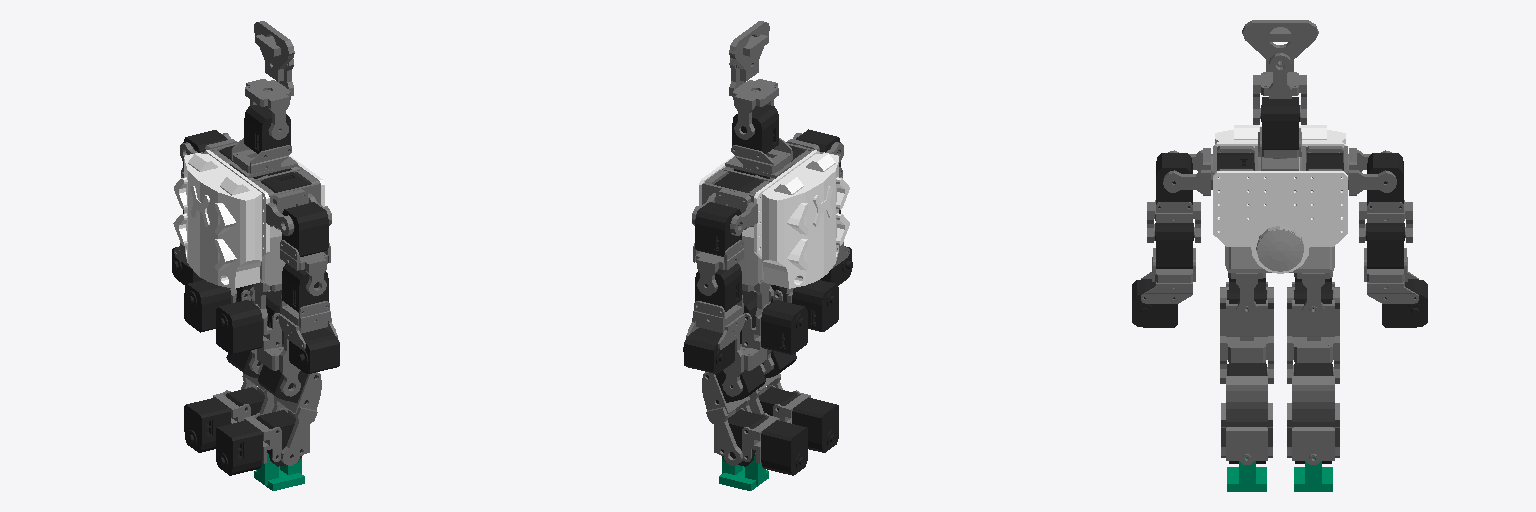
--- What the picture shows (computed from the rendered views, not written in the file) ---
Views: 3 orthographic renders of the robot side by side, from view 1: azimuth 30°, elevation 25°; view 2: azimuth 150°, elevation 25°; view 3: azimuth 270°, elevation 25°.
Model kxrl2l5a3g with 23 links and 22 joints (16 revolute, 6 fixed), rooted at torso, posed every joint at zero.
Visible links, largest first — view 1: torso, RARM_LINK2, RLEG_LINK3, HEAD_LINK1, RARM_LINK1, RLEG_LINK0, LLEG_LINK3, RLEG_LINK2, HEAD_LINK0, LLEG_LINK0, RARM_LINK0, RLEG_LINK1 (+4 smaller); view 2: torso, LARM_LINK2, LLEG_LINK3, HEAD_LINK1, LARM_LINK1, LLEG_LINK0, RLEG_LINK3, HEAD_LINK0, LLEG_LINK2, RLEG_LINK0, LARM_LINK0, LLEG_LINK1 (+4 smaller); view 3: torso, RARM_LINK2, LARM_LINK2, HEAD_LINK1, LLEG_LINK2, RLEG_LINK2, LARM_LINK1, RARM_LINK1, HEAD_LINK0, RLEG_LINK1, LLEG_LINK1, LLEG_LINK0 (+7 smaller).
Boxes of the visible links, x1,y1,x2,y2 form: torso: (173,143,324,320); RARM_LINK2: (279,263,339,373); RLEG_LINK3: (216,408,309,475); HEAD_LINK1: (245,21,294,139); RARM_LINK1: (280,202,330,295); RLEG_LINK0: (216,290,283,354); LLEG_LINK3: (184,385,264,452); RLEG_LINK2: (258,365,321,465); HEAD_LINK0: (231,105,291,174); LLEG_LINK0: (184,280,252,332); RARM_LINK0: (266,189,331,235); RLEG_LINK1: (257,290,300,396); torso: (699,143,849,317); LARM_LINK2: (683,263,744,373); LLEG_LINK3: (714,408,807,475); HEAD_LINK1: (729,21,778,139); LARM_LINK1: (693,202,743,295); LLEG_LINK0: (740,290,807,354); RLEG_LINK3: (759,385,838,452); HEAD_LINK0: (731,105,792,174); LLEG_LINK2: (702,365,765,465); RLEG_LINK0: (771,280,838,331); LARM_LINK0: (692,189,757,235); LLEG_LINK1: (722,290,766,396); torso: (1211,125,1348,319); RARM_LINK2: (1132,223,1195,327); LARM_LINK2: (1364,223,1427,327); HEAD_LINK1: (1242,20,1318,124); LLEG_LINK2: (1287,362,1339,457); RLEG_LINK2: (1221,362,1272,457); LARM_LINK1: (1359,153,1412,242); RARM_LINK1: (1147,153,1200,242); HEAD_LINK0: (1258,97,1301,157); RLEG_LINK1: (1220,287,1273,383); LLEG_LINK1: (1287,287,1339,383); LLEG_LINK0: (1292,278,1334,336).
Size in the robot's own frame: 0.089 by 0.2095 by 0.364 metres.
17 mesh visuals loaded from 17 distinct referenced files (17 Collada DAE).

robot.urdf — kxrl2l5a3g:
<?xml version="1.0"?>
<robot name="kxrl2l5a3g"
       xmlns:xi="http://www.w3.org/2001/XInclude">
  <link name="torso">
    <visual>
      <origin xyz="-8e-06 0 0.191982" rpy="0 -0 0"/>
      <geometry>
        <mesh filename="../meshes/torso_mesh.dae" scale="1 1 1" />
      </geometry>
    </visual>
    <collision>
      <origin xyz="-0.010000 0.00000 0.020000" rpy="0.00000000 -0.00000000 0.00000000"/>
      <geometry>
        <box size="0.07000 0.08 0.08" />
      </geometry>
    </collision>
    <inertial>
      <!-- from rcb4eus -->
      <!-- <mass value="0.583234" /> -->
      <!-- real robot w/o battery: 0.583234 - 0.296 = 0.287234; only compensate the real weight by torso adjustment -->
      <mass value="0.287234" />
      <origin xyz="0 0 0" rpy="0 -0 0"/>
      <inertia ixx="0.001179" ixy="-8.41182e-06" ixz="-1.70062e-06" iyy="0.001167" iyz="1.49116e-06" izz="0.001999"/>
    </inertial>
  </link>
  <link name="HEAD_LINK0">
    <visual>
      <origin xyz="-0.00725 0 0.061" rpy="0 -0 0"/>
      <geometry>
        <mesh filename="../meshes/HEAD_LINK0_mesh.dae" scale="1 1 1" />
      </geometry>
    </visual>
    <inertial>
      <mass value="0.03752" />
      <origin xyz="0.008278 -1.86739e-06 0.020216" rpy="0 -0 0"/>
      <inertia ixx="3.88837e-05" ixy="-3.94e-12" ixz="6.70242e-09" iyy="4.27546e-05" iyz="-6.02408e-09" izz="2.51931e-05"/>
    </inertial>
  </link>
  <link name="HEAD_LINK1">
    <visual>
      <origin xyz="0.0105 0 0.033" rpy="0 -0 0"/>
      <geometry>
        <mesh filename="../meshes/HEAD_LINK1_mesh.dae" scale="1 1 1" />
      </geometry>
    </visual>
    <collision>
      <origin xyz="0.00000 0.0000 -0.0080" rpy="0.00000000 -0.00000000 0.00000000"/>
      <geometry>
        <box size="0.025 0.025 0.03" />
      </geometry>
    </collision>
    <inertial>
      <mass value="0.024597" />
      <!-- <origin xyz="0.004067 2.59182e-19 0.008603" rpy="0 -0 0"/> -->
      <origin xyz="0.004067 4.0547e-19 0.008603" rpy="0 -0 0"/>
      <inertia ixx="9.7242e-05" ixy="-2.28993e-09" ixz="1.36484e-07" iyy="8.87817e-05" iyz="-1.71513e-08" izz="1.3887e-05"/>
    </inertial>
  </link>
  <link name="LARM_LINK0">
    <visual>
      <origin xyz="-0.00725 0.0485 0.0435" rpy="0 -0 0"/>
      <geometry>
        <mesh filename="../meshes/LARM_LINK0_mesh.dae" scale="1 1 1" />
      </geometry>
    </visual>
    <inertial>
      <mass value="0.01195" />
      <origin xyz="2.60209e-18 0 0.010386" rpy="0 -0 0"/>
      <inertia ixx="2.28576e-05" ixy="-9.80842e-10" ixz="6.34046e-10" iyy="1.18146e-05" iyz="1.5468e-08" izz="1.61687e-05"/>
    </inertial>
  </link>
  <link name="LARM_LINK1">
    <visual>
      <origin xyz="0 0.026 0" rpy="0 -0 0"/>
      <geometry>
        <mesh filename="../meshes/LARM_LINK1_mesh.dae" scale="1 1 1" />
      </geometry>
    </visual>
    <collision>
      <origin xyz="0.00000 0.0000 -0.0080" rpy="0.00000000 -0.00000000 0.00000000"/>
      <geometry>
        <box size="0.025 0.025 0.03" />
      </geometry>
    </collision>
    <collision>
      <origin xyz="0.0 0.0000 -0.030" rpy="0.00000000 -0.00000000 0.00000000"/>
      <geometry>
        <box size="0.028 0.028 0.006" />
      </geometry>
    </collision>
    <inertial>
      <mass value="0.041025" />
      <origin xyz="0 0 -0.01644" rpy="0 -0 0"/>
      <inertia ixx="5.49194e-05" ixy="-6.71102e-10" ixz="8.95645e-09" iyy="2.53332e-05" iyz="6.90862e-09" izz="5.98969e-05"/>
    </inertial>
  </link>
  <link name="LARM_LINK2">
    <visual>
      <origin xyz="0 0 -0.047" rpy="0 -0 0"/>
      <geometry>
        <mesh filename="../meshes/LARM_LINK2_mesh.dae" scale="1 1 1" />
      </geometry>
    </visual>
    <collision>
      <origin xyz="0.00000 0.0000 -0.008" rpy="0.00000000 -0.00000000 0.00000000"/>
      <geometry>
        <box size="0.025 0.025 0.03" />
      </geometry>
    </collision>
    <collision>
      <origin xyz="0.00000 0.0130 -0.055" rpy="0.00000000 -0.00000000 0.00000000"/>
      <geometry>
        <box size="0.025 0.03 0.025" />
      </geometry>
    </collision>
    <collision>
      <origin xyz="0.0 0.0000 -0.033" rpy="0.00000000 -0.00000000 0.00000000"/>
      <geometry>
        <box size="0.028 0.028 0.010" />
      </geometry>
    </collision>
    <inertial>
      <mass value="0.071724" />
      <origin xyz="0 0 -0.012787" rpy="0 -0 0"/>
      <inertia ixx="9.38809e-05" ixy="-3.94e-12" ixz="1.53141e-08" iyy="5.47619e-05" iyz="-1.12819e-08" izz="9.84962e-05"/>
    </inertial>
  </link>
  <!-- <link name="LARM_LINK3"> -->
  <!--   <visual> -->
  <!--     <origin xyz="0 0.021 -0.0555" rpy="0 -0 0"/> -->
  <!--     <geometry> -->
  <!--       <mesh filename="../meshes/LARM_LINK3_mesh.dae" scale="1 1 1" /> -->
  <!--     </geometry> -->
  <!--   </visual> -->
  <!--   <collision> -->
  <!--     <!-\- <origin xyz="0.00000 0.0225 -0.022" rpy="${-1.0471975512 - 0.05} -0.00000000 0.00000000"/> -\-> -->
  <!--     <origin xyz="0.00000 0.0225 -0.022" rpy="-1.0971975512 -0.00000000 0.00000000"/> -->
  <!--     <geometry> -->
  <!--       <box size="0.04 0.03 0.006" /> -->
  <!--     </geometry> -->
  <!--   </collision> -->
  <!--   <inertial> -->
  <!--     <mass value="0.013908" /> -->
  <!--     <origin xyz="-3.46945e-18 0.035082 -0.036273" rpy="0 -0 0"/> -->
  <!--     <inertia ixx="5.39534e-05" ixy="-2.54028e-09" ixz="-2.35822e-09" iyy="2.3568e-05" iyz="-1.52851e-07" izz="4.68022e-05"/> -->
  <!--   </inertial> -->
  <!-- </link> -->
  <link name="LLEG_LINK0">
    <visual>
      <origin xyz="0 0.0235 -0.052" rpy="0 -0 0"/>
      <geometry>
        <mesh filename="../meshes/LLEG_LINK0_mesh.dae" scale="1 1 1" />
      </geometry>
    </visual>
    <collision>
      <origin xyz="-0.035 0.0000 -0.0080" rpy="0.00000000 -0.00000000 0.00000000"/>
      <geometry>
        <box size="0.025 0.025 0.03" />
      </geometry>
    </collision>
    <collision>
      <origin xyz="0.00000 0.0000 -0.0080" rpy="0.00000000 -0.00000000 0.00000000"/>
      <geometry>
        <box size="0.025 0.025 0.03" />
      </geometry>
    </collision>
    <inertial>
      <mass value="0.061776" />
      <origin xyz="-0.015804 -3.46945e-18 -0.00811" rpy="0 -0 0"/>
      <inertia ixx="4.81066e-05" ixy="1.50384e-08" ixz="-2.07075e-08" iyy="5.46135e-05" iyz="-1.15288e-07" izz="4.88736e-05"/>
    </inertial>
  </link>
  <link name="LLEG_LINK1">
    <visual>
      <origin xyz="0 0 0" rpy="0 -0 0"/>
      <geometry>
        <mesh filename="../meshes/LLEG_LINK1_mesh.dae" scale="1 1 1" />
      </geometry>
    </visual>
    <collision>
      <origin xyz="0.0 0.0000 -0.038" rpy="0.00000000 -0.00000000 0.00000000"/>
      <geometry>
        <box size="0.028 0.028 0.012" />
      </geometry>
    </collision>
    <inertial>
      <mass value="0.025166" />
      <origin xyz="2.87307e-19 -3.46945e-18 -0.032713" rpy="0 -0 0"/>
      <inertia ixx="6.74466e-05" ixy="-2.27142e-09" ixz="1.80148e-09" iyy="6.14497e-05" iyz="3.35902e-08" izz="1.35243e-05"/>
    </inertial>
  </link>
  <link name="LLEG_LINK2">
    <visual>
      <origin xyz="0 0 -0.058" rpy="0 -0 0"/>
      <geometry>
        <mesh filename="../meshes/LLEG_LINK2_mesh.dae" scale="1 1 1" />
      </geometry>
    </visual>
    <collision>
      <!-- <origin xyz="0.00000 0.00 -0.00" rpy="0.00000000 ${0.52359877559 - 0.07} 0.00000000"/> -->
      <!-- <origin xyz="0.00700 0.00 -0.003" rpy="0.00000000 0.45359877559 0.00000000"/> -->
      <origin xyz="0.01000 0.00 -0.0045" rpy="0.00000000 0.45359877559 0.00000000"/>
      <geometry>
        <box size="0.03 0.025 0.025" />
      </geometry>
    </collision>
    <inertial>
      <!-- from rcb4eus -->
      <mass value="0.055049" />
      <!-- real robot 3304R2: 0.055049 + 0.0073 = 0.062349 -->
      <!-- <mass value="0.062349" /> -->
      <origin xyz="0.010892 0 -0.013685" rpy="0 -0 0"/>
      <inertia ixx="0.00013" ixy="5.70585e-08" ixz="1.76606e-08" iyy="0.000122" iyz="-6.55478e-07" izz="3.84933e-05"/>
    </inertial>
  </link>
  <link name="LLEG_LINK3">
    <visual>
      <origin xyz="0 0 -0.057976" rpy="0 -0 0"/>
      <geometry>
        <mesh filename="../meshes/LLEG_LINK3_mesh.dae" scale="1 1 1" />
      </geometry>
    </visual>
    <collision>
      <origin xyz="-0.035 0.0000 0.0080" rpy="0.00000000 -0.00000000 0.00000000"/>
      <geometry>
        <box size="0.025 0.025 0.03" />
      </geometry>
    </collision>
    <collision>
      <origin xyz="0.00000 0.0000 0.0080" rpy="0.00000000 -0.00000000 0.00000000"/>
      <geometry>
        <box size="0.025 0.025 0.03" />
      </geometry>
    </collision>
    <inertial>
      <!-- from rcb4eus -->
      <mass value="0.061776" />
      <!-- real robot 3304R2 x 2: 0.061776 + 0.0073 x 2 = 0.076376 -->
      <!-- <mass value="0.076376" /> -->
      <origin xyz="-0.015804 -3.46945e-18 -0.00811" rpy="0 -0 0"/>
      <inertia ixx="0.000134" ixy="1.50384e-08" ixz="-2.07075e-08" iyy="0.00014" iyz="-1.15288e-07" izz="4.88736e-05"/>
    </inertial>
  </link>
  <link name="LLEG_LINK4">
    <!-- <visual> -->
    <!--   <origin xyz="0 0 0" rpy="0 -0 0"/> -->
    <!--   <geometry> -->
    <!--     <mesh filename="../meshes/LLEG_LINK4_mesh.dae" scale="1 1 1" /> -->
    <!--   </geometry> -->
    <!-- </visual> -->
    <visual>
      <origin xyz="0.01 0.0000 -0.013" rpy="0.00000000 -0.00000000 0.00000000"/>
      <geometry>
        <box size="0.012 0.012 0.026" />
      </geometry>
    </visual>
    <visual>
      <origin xyz="-0.01 0.0000 -0.013" rpy="0.00000000 -0.00000000 0.00000000"/>
      <geometry>
        <box size="0.012 0.012 0.026" />
      </geometry>
    </visual>
    <visual>
      <origin xyz="0.0 0.0000 -0.025" rpy="0.00000000 -0.00000000 0.00000000"/>
      <geometry>
        <box size="0.028 0.028 0.006" />
      </geometry>
    </visual>
    <collision>
      <origin xyz="0.0 0.0000 -0.025" rpy="0.00000000 -0.00000000 0.00000000"/>
      <geometry>
        <box size="0.028 0.028 0.006" />
      </geometry>
    </collision>
    <!-- method 1: approximation by 1 box -->
    <!-- <collision> -->
    <!--   <!-\- <origin xyz="0.00000 0.0100 -0.029" rpy="0.00000000 -0.00000000 0.00000000"/> -\-> -->
    <!--   <origin xyz="0.00000 0.0100 -0.029" rpy="0.00000000 -0.00000000 0.00000000"/> -->
    <!--   <geometry> -->
    <!--     <box size="0.1 0.06 0.004" /> -->
    <!--     <!-\- <box size="0.1 0.04 0.004" /> -\-> -->
    <!--   </geometry> -->
    <!-- </collision> -->
    <!-- method 2: approximation by 2 boxes -->
    <!-- <collision> -->
    <!--   <!-\- <origin xyz="0.00000 0.000 -0.029" rpy="0.00000000 -0.00000000 0.00000000"/> -\-> -->
    <!--   <!-\- add small offset to avoid 2 feet get collisin -\-> -->
    <!--   <origin xyz="0.00000 0.0040 -0.029" rpy="0.00000000 -0.00000000 0.00000000"/> -->
    <!--   <geometry> -->
    <!--     <box size="0.1 0.04 0.004" /> -->
    <!--   </geometry> -->
    <!-- </collision> -->
    <!-- <collision> -->
    <!--   <!-\- <origin xyz="0.00000 0.0300 -0.029" rpy="0.00000000 -0.00000000 0.00000000"/> -\-> -->
    <!--   <!-\- add small offset to avoid 2 feet get collisin -\-> -->
    <!--   <origin xyz="0.00000 0.03400 -0.029" rpy="0.00000000 -0.00000000 0.00000000"/> -->
    <!--   <geometry> -->
    <!--     <box size="0.08 0.02 0.004" /> -->
    <!--   </geometry> -->
    <!-- </collision> -->
    <!-- method 3: approximation by overlay of 2 spheres and 1 box -->
    <!-- <collision> -->
    <!--   <origin xyz="0.02000 0.0100 -0.029" rpy="0.00000000 -0.00000000 0.00000000"/> -->
    <!--   <geometry> -->
    <!--     <cylinder length="0.004" radius="0.03" /> -->
    <!--   </geometry> -->
    <!-- </collision> -->
    <!-- <collision> -->
    <!--   <origin xyz="-0.02000 0.0100 -0.029" rpy="0.00000000 -0.00000000 0.00000000"/> -->
    <!--   <geometry> -->
    <!--     <cylinder length="0.004" radius="0.03" /> -->
    <!--   </geometry> -->
    <!-- </collision> -->
    <!-- <collision> -->
    <!--   <origin xyz="0.00000 0.0100 -0.029" rpy="0.00000000 -0.00000000 0.00000000"/> -->
    <!--   <geometry> -->
    <!--     <box size="0.06 0.06 0.004" /> -->
    <!--   </geometry> -->
    <!-- </collision> -->
    <inertial>
      <mass value="0.034088" />
      <origin xyz="-7.61549e-06 0.005841 -0.024808" rpy="0 -0 0"/>
      <inertia ixx="0.000284" ixy="6.51398e-09" ixz="1.25882e-08" iyy="0.000186" iyz="-2.42528e-07" izz="0.000103"/>
    </inertial>
  </link>
  <link name="RARM_LINK0">
    <visual>
      <origin xyz="-0.00725 -0.049 0.0435" rpy="0 -0 0"/>
      <geometry>
        <mesh filename="../meshes/RARM_LINK0_mesh.dae" scale="1 1 1" />
      </geometry>
    </visual>
    <inertial>
      <mass value="0.01195" />
      <origin xyz="2.60209e-18 0 0.010386" rpy="0 -0 0"/>
      <inertia ixx="2.30389e-05" ixy="-9.80842e-10" ixz="6.34046e-10" iyy="1.18146e-05" iyz="1.5468e-08" izz="1.63501e-05"/>
    </inertial>
  </link>
  <link name="RARM_LINK1">
    <visual>
      <origin xyz="0 -0.026 0" rpy="0 -0 0"/>
      <geometry>
        <mesh filename="../meshes/RARM_LINK1_mesh.dae" scale="1 1 1" />
      </geometry>
    </visual>
    <collision>
      <origin xyz="0.00000 0.0000 -0.00800" rpy="0.00000000 -0.00000000 0.00000000"/>
      <geometry>
        <box size="0.025 0.025 0.03" />
      </geometry>
    </collision>
    <collision>
      <origin xyz="0.0 0.0000 -0.030" rpy="0.00000000 -0.00000000 0.00000000"/>
      <geometry>
        <box size="0.028 0.028 0.006" />
      </geometry>
    </collision>
    <inertial>
      <mass value="0.041025" />
      <origin xyz="0 0 -0.01644" rpy="0 -0 0"/>
      <inertia ixx="5.53679e-05" ixy="-6.71102e-10" ixz="8.95645e-09" iyy="2.53332e-05" iyz="6.90862e-09" izz="6.03453e-05"/>
    </inertial>
  </link>
  <link name="RARM_LINK2">
    <visual>
      <origin xyz="0 0 -0.047" rpy="0 -0 0"/>
      <geometry>
        <mesh filename="../meshes/RARM_LINK2_mesh.dae" scale="1 1 1" />
      </geometry>
    </visual>
    <collision>
      <origin xyz="0.00000 0.0000 -0.008" rpy="0.00000000 -0.00000000 0.00000000"/>
      <geometry>
        <box size="0.025 0.025 0.03" />
      </geometry>
    </collision>
    <collision>
      <origin xyz="0.00000 -0.0130 -0.055" rpy="0.00000000 -0.00000000 0.00000000"/>
      <geometry>
        <box size="0.025 0.03 0.025" />
      </geometry>
    </collision>
    <collision>
      <origin xyz="0.0 0.0000 -0.033" rpy="0.00000000 -0.00000000 0.00000000"/>
      <geometry>
        <box size="0.028 0.028 0.010" />
      </geometry>
    </collision>
    <inertial>
      <mass value="0.071724" />
      <origin xyz="0 0 -0.012787" rpy="0 -0 0"/>
      <inertia ixx="9.45007e-05" ixy="-3.94e-12" ixz="1.53141e-08" iyy="5.47619e-05" iyz="-1.12819e-08" izz="9.91161e-05"/>
    </inertial>
  </link>
  <!-- <link name="RARM_LINK3"> -->
  <!--   <visual> -->
  <!--     <origin xyz="0 -0.021 -0.0555" rpy="0 -0 0"/> -->
  <!--     <geometry> -->
  <!--       <mesh filename="../meshes/RARM_LINK3_mesh.dae" scale="1 1 1" /> -->
  <!--     </geometry> -->
  <!--   </visual> -->
  <!--   <collision> -->
  <!--     <!-\- <origin xyz="0.00000 -0.0225 -0.022" rpy="${1.0471975512 + 0.05} -0.00000000 0.00000000"/> -\-> -->
  <!--     <origin xyz="0.00000 -0.0225 -0.022" rpy="1.0971975512 -0.00000000 0.00000000"/> -->
  <!--     <geometry> -->
  <!--       <box size="0.04 0.03 0.006" /> -->
  <!--     </geometry> -->
  <!--   </collision> -->
  <!--   <inertial> -->
  <!--     <mass value="0.013908" /> -->
  <!--     <origin xyz="1.73472e-18 -0.035082 -0.036273" rpy="0 -0 0"/> -->
  <!--     <inertia ixx="5.42657e-05" ixy="-2.54028e-09" ixz="-2.35822e-09" iyy="2.3568e-05" iyz="-1.52851e-07" izz="4.71146e-05"/> -->
  <!--   </inertial> -->
  <!-- </link> -->
  <link name="RLEG_LINK0">
    <visual>
      <origin xyz="0 -0.0235 -0.052" rpy="0 -0 0"/>
      <geometry>
        <mesh filename="../meshes/RLEG_LINK0_mesh.dae" scale="1 1 1" />
      </geometry>
    </visual>
    <collision>
      <origin xyz="-0.035 0.0000 -0.0080" rpy="0.00000000 -0.00000000 0.00000000"/>
      <geometry>
        <box size="0.025 0.025 0.03" />
      </geometry>
    </collision>
    <collision>
      <origin xyz="0.00000 0.0000 -0.0080" rpy="0.00000000 -0.00000000 0.00000000"/>
      <geometry>
        <box size="0.025 0.025 0.03" />
      </geometry>
    </collision>
    <inertial>
      <mass value="0.061776" />
      <origin xyz="-0.015804 -3.46945e-18 -0.00811" rpy="0 -0 0"/>
      <inertia ixx="4.81066e-05" ixy="1.50384e-08" ixz="-2.07075e-08" iyy="5.46135e-05" iyz="-1.15288e-07" izz="4.88736e-05"/>
    </inertial>
  </link>
  <link name="RLEG_LINK1">
    <visual>
      <origin xyz="0 0 0" rpy="0 -0 0"/>
      <geometry>
        <mesh filename="../meshes/RLEG_LINK1_mesh.dae" scale="1 1 1" />
      </geometry>
    </visual>
    <collision>
      <origin xyz="0.0 0.0000 -0.038" rpy="0.00000000 -0.00000000 0.00000000"/>
      <geometry>
        <box size="0.028 0.028 0.012" />
      </geometry>
    </collision>
    <inertial>
      <mass value="0.025166" />
      <origin xyz="2.87307e-19 -3.46945e-18 -0.032713" rpy="0 -0 0"/>
      <inertia ixx="6.74466e-05" ixy="-2.27142e-09" ixz="1.80148e-09" iyy="6.14497e-05" iyz="3.35902e-08" izz="1.35243e-05"/>
    </inertial>
  </link>
  <link name="RLEG_LINK2">
    <visual>
      <origin xyz="0 0 -0.058" rpy="0 -0 0"/>
      <geometry>
        <mesh filename="../meshes/RLEG_LINK2_mesh.dae" scale="1 1 1" />
      </geometry>
    </visual>
    <collision>
      <!-- <origin xyz="0.00000 0.00 -0.00" rpy="0.00000000 ${0.52359877559 - 0.07} 0.00000000"/> -->
      <!-- <origin xyz="0.00700 0.00 -0.003" rpy="0.00000000 0.45359877559 0.00000000"/> -->
      <origin xyz="0.01000 0.00 -0.0045" rpy="0.00000000 0.45359877559 0.00000000"/>
      <geometry>
        <box size="0.03 0.025 0.025" />
      </geometry>
    </collision>
    <inertial>
      <!-- from rcb4eus -->
      <mass value="0.055049" />
      <!-- real robot 3304R2: 0.055049 + 0.0073 = 0.062349 -->
      <!-- <mass value="0.062349" /> -->
      <origin xyz="0.010892 0 -0.013685" rpy="0 -0 0"/>
      <inertia ixx="0.00013" ixy="5.70585e-08" ixz="1.76606e-08" iyy="0.000122" iyz="-6.55478e-07" izz="3.84933e-05"/>
    </inertial>
  </link>
  <link name="RLEG_LINK3">
    <visual>
      <origin xyz="0 0 -0.057976" rpy="0 -0 0"/>
      <geometry>
        <mesh filename="../meshes/RLEG_LINK3_mesh.dae" scale="1 1 1" />
      </geometry>
    </visual>
    <collision>
      <origin xyz="-0.035 0.0000 0.0080" rpy="0.00000000 -0.00000000 0.00000000"/>
      <geometry>
        <box size="0.025 0.025 0.03" />
      </geometry>
    </collision>
    <collision>
      <origin xyz="0.00000 0.0000 0.0080" rpy="0.00000000 -0.00000000 0.00000000"/>
      <geometry>
        <box size="0.025 0.025 0.03" />
      </geometry>
    </collision>
    <inertial>
      <!-- from rcb4eus -->
      <mass value="0.061776" />
      <!-- real robot 3304R2 x 2: 0.061776 + 0.0073 x 2 = 0.076376 -->
      <!-- <mass value="0.076376" /> -->
      <origin xyz="-0.015804 -3.46945e-18 -0.00811" rpy="0 -0 0"/>
      <inertia ixx="0.000134" ixy="1.50384e-08" ixz="-2.07075e-08" iyy="0.00014" iyz="-1.15288e-07" izz="4.88736e-05"/>
    </inertial>
  </link>
  <link name="RLEG_LINK4">
    <!-- <visual> -->
    <!--   <origin xyz="0 0 0" rpy="0 -0 0"/> -->
    <!--   <geometry> -->
    <!--     <mesh filename="../meshes/RLEG_LINK4_mesh.dae" scale="1 1 1" /> -->
    <!--   </geometry> -->
    <!-- </visual> -->
    <visual>
      <origin xyz="0.01 0.0000 -0.013" rpy="0.00000000 -0.00000000 0.00000000"/>
      <geometry>
        <box size="0.012 0.012 0.026" />
      </geometry>
    </visual>
    <visual>
      <origin xyz="-0.01 0.0000 -0.013" rpy="0.00000000 -0.00000000 0.00000000"/>
      <geometry>
        <box size="0.012 0.012 0.026" />
      </geometry>
    </visual>
    <visual>
      <origin xyz="0.0 0.0000 -0.025" rpy="0.00000000 -0.00000000 0.00000000"/>
      <geometry>
        <box size="0.028 0.028 0.006" />
      </geometry>
    </visual>
    <collision>
      <origin xyz="0.0 0.0000 -0.025" rpy="0.00000000 -0.00000000 0.00000000"/>
      <geometry>
        <box size="0.028 0.028 0.006" />
      </geometry>
    </collision>
    <!-- method 1: approximation by 1 box -->
    <!-- <collision> -->
    <!--   <!-\- <origin xyz="0.00000 -0.0100 -0.029" rpy="0.00000000 -0.00000000 0.00000000"/> -\-> -->
    <!--   <origin xyz="0.00000 -0.0100 -0.029" rpy="0.00000000 -0.00000000 0.00000000"/> -->
    <!--   <geometry> -->
    <!--     <box size="0.1 0.06 0.004" /> -->
    <!--     <!-\- <box size="0.1 0.04 0.004" /> -\-> -->
    <!--   </geometry> -->
    <!-- </collision> -->
    <!-- method 2: approximation by 2 boxes -->
    <!-- <collision> -->
    <!--   <!-\- <origin xyz="0.00000 -0.000 -0.029" rpy="0.00000000 -0.00000000 0.00000000"/> -\-> -->
    <!--   <!-\- add small offset to avoid 2 feet get collisin -\-> -->
    <!--   <origin xyz="0.00000 -0.0040 -0.029" rpy="0.00000000 -0.00000000 0.00000000"/> -->
    <!--   <geometry> -->
    <!--     <box size="0.1 0.04 0.004" /> -->
    <!--   </geometry> -->
    <!-- </collision> -->
    <!-- <collision> -->
    <!--   <!-\- <origin xyz="0.00000 -0.0300 -0.029" rpy="0.00000000 -0.00000000 0.00000000"/> -\-> -->
    <!--   <!-\- add small offset to avoid 2 feet get collisin -\-> -->
    <!--   <origin xyz="0.00000 -0.03400 -0.029" rpy="0.00000000 -0.00000000 0.00000000"/> -->
    <!--   <geometry> -->
    <!--     <box size="0.08 0.02 0.004" /> -->
    <!--   </geometry> -->
    <!-- </collision> -->
    <!-- method 3: approximation by overlay of 2 spheres and 1 box -->
    <!-- <collision> -->
    <!--   <origin xyz="0.02000 -0.0100 -0.029" rpy="0.00000000 -0.00000000 0.00000000"/> -->
    <!--   <geometry> -->
    <!--     <cylinder length="0.004" radius="0.03" /> -->
    <!--   </geometry> -->
    <!-- </collision> -->
    <!-- <collision> -->
    <!--   <origin xyz="-0.02000 -0.0100 -0.029" rpy="0.00000000 -0.00000000 0.00000000"/> -->
    <!--   <geometry> -->
    <!--     <cylinder length="0.004" radius="0.03" /> -->
    <!--   </geometry> -->
    <!-- </collision> -->
    <!-- <collision> -->
    <!--   <origin xyz="0.00000 -0.0100 -0.029" rpy="0.00000000 -0.00000000 0.00000000"/> -->
    <!--   <geometry> -->
    <!--     <box size="0.06 0.06 0.004" /> -->
    <!--   </geometry> -->
    <!-- </collision> -->
    <inertial>
      <mass value="0.034088" />
      <origin xyz="7.61549e-06 -0.005841 -0.024808" rpy="0 -0 0"/>
      <inertia ixx="0.000284" ixy="6.51398e-09" ixz="1.25882e-08" iyy="0.000186" iyz="-2.42528e-07" izz="0.000103"/>
    </inertial>
  </link>
  <joint name="HEAD_JOINT0" type="fixed">
    <parent link="torso"/>
    <child  link="HEAD_LINK0"/>
    <origin xyz="-0.00725 0 0.061" rpy="0 -0 0 "/>
    <axis   xyz="0 0 1"/>
    <limit lower="-3.14159" upper="3.14159" effort="100" velocity="0.5" />
    <dynamics damping="0.2" friction="0" />
  </joint>
  <joint name="HEAD_JOINT1" type="fixed">
    <parent link="HEAD_LINK0"/>
    <child  link="HEAD_LINK1"/>
    <origin xyz="0.0105 0 0.033" rpy="0 -0 0 "/>
    <axis   xyz="0 1 0"/>
    <limit lower="-3.14159" upper="3.14159" effort="100" velocity="0.5" />
    <dynamics damping="0.2" friction="0" />
  </joint>
  <joint name="LARM_JOINT0" type="revolute">
    <parent link="torso"/>
    <child  link="LARM_LINK0"/>
    <origin xyz="-0.00725 0.0485 0.0435" rpy="0 -0 0 "/>
    <axis   xyz="0 1 0"/>
    <limit lower="-3.14159" upper="3.14159" effort="1.17655" velocity="7.47998" />
    <dynamics damping="0.2" friction="0" />
  </joint>
  <joint name="LARM_JOINT1" type="revolute">
    <parent link="LARM_LINK0"/>
    <child  link="LARM_LINK1"/>
    <origin xyz="0 0.026 0" rpy="0 -0 0 "/>
    <axis   xyz="1 0 0"/>
    <limit lower="-0.523599" upper="3.22886" effort="1.17655" velocity="7.47998" />
    <dynamics damping="0.2" friction="0" />
  </joint>
  <joint name="LARM_JOINT2" type="revolute">
    <parent link="LARM_LINK1"/>
    <child  link="LARM_LINK2"/>
    <origin xyz="0 0 -0.047" rpy="0 -0 0 "/>
    <axis   xyz="0 1 0"/>
    <limit lower="-2.96706" upper="2.96706" effort="1.17655" velocity="7.47998" />
    <dynamics damping="0.2" friction="0" />
  </joint>
  <!-- <joint name="LARM_JOINT3" type="revolute"> -->
  <!--   <parent link="LARM_LINK2"/> -->
  <!--   <child  link="LARM_LINK3"/> -->
  <!--   <origin xyz="0 0.021 -0.0555" rpy="0 -0 0 "/> -->
  <!--   <axis   xyz="1 0 0"/> -->
  <!--   <limit lower="-1.74533" upper="1.74533" effort="1.17655" velocity="7.47998" /> -->
  <!--   <dynamics damping="0.2" friction="0" /> -->
  <!-- </joint> -->
  <joint name="RARM_JOINT0" type="revolute">
    <parent link="torso"/>
    <child  link="RARM_LINK0"/>
    <origin xyz="-0.00725 -0.049 0.0435" rpy="0 -0 0 "/>
    <axis   xyz="0 1 0"/>
    <limit lower="-3.14159" upper="3.14159" effort="1.17655" velocity="7.47998" />
    <dynamics damping="0.2" friction="0" />
  </joint>
  <joint name="RARM_JOINT1" type="revolute">
    <parent link="RARM_LINK0"/>
    <child  link="RARM_LINK1"/>
    <origin xyz="0 -0.026 0" rpy="0 -0 0 "/>
    <axis   xyz="1 0 0"/>
    <limit lower="-3.22886" upper="0.523599" effort="1.17655" velocity="7.47998" />
    <dynamics damping="0.2" friction="0" />
  </joint>
  <joint name="RARM_JOINT2" type="revolute">
    <parent link="RARM_LINK1"/>
    <child  link="RARM_LINK2"/>
    <origin xyz="0 0 -0.047" rpy="0 -0 0 "/>
    <axis   xyz="0 1 0"/>
    <limit lower="-2.96706" upper="2.96706" effort="1.17655" velocity="7.47998" />
    <dynamics damping="0.2" friction="0" />
  </joint>
  <!-- <joint name="RARM_JOINT3" type="revolute"> -->
  <!--   <parent link="RARM_LINK2"/> -->
  <!--   <child  link="RARM_LINK3"/> -->
  <!--   <origin xyz="0 -0.021 -0.0555" rpy="0 -0 0 "/> -->
  <!--   <axis   xyz="-1 1.22465e-16 6.16298e-33"/> -->
  <!--   <limit lower="-1.74533" upper="1.74533" effort="1.17655" velocity="7.47998" /> -->
  <!--   <dynamics damping="0.2" friction="0" /> -->
  <!-- </joint> -->
  <joint name="LLEG_JOINT0" type="revolute">
    <parent link="torso"/>
    <child  link="LLEG_LINK0"/>
    <origin xyz="0 0.0235 -0.052" rpy="0 -0 0 "/>
    <axis   xyz="1 0 0"/>
    <limit lower="-2.35619" upper="2.32129" effort="1.17655" velocity="7.47998" />
    <dynamics damping="0.2" friction="0" />
  </joint>
  <joint name="LLEG_JOINT1" type="revolute">
    <parent link="LLEG_LINK0"/>
    <child  link="LLEG_LINK1"/>
    <origin xyz="0 0 0" rpy="0 -0 0 "/>
    <axis   xyz="0 1 0"/>
    <limit lower="-2.35619" upper="1.5708" effort="1.17655" velocity="7.47998" />
    <dynamics damping="0.2" friction="0" />
  </joint>
  <joint name="LLEG_JOINT2" type="revolute">
    <parent link="LLEG_LINK1"/>
    <child  link="LLEG_LINK2"/>
    <origin xyz="0 0 -0.058" rpy="0 -0 0 "/>
    <axis   xyz="0 1 0"/>
    <limit lower="-1.74533" upper="2.79253" effort="1.17655" velocity="7.47998" />
    <dynamics damping="0.2" friction="0" />
  </joint>
  <joint name="LLEG_JOINT3" type="revolute">
    <parent link="LLEG_LINK2"/>
    <child  link="LLEG_LINK3"/>
    <origin xyz="0 0 -0.057976" rpy="0 -0 0 "/>
    <axis   xyz="0 1 0"/>
    <limit lower="-1.8326" upper="1.8326" effort="1.17655" velocity="7.47998" />
    <dynamics damping="0.2" friction="0" />
  </joint>
  <joint name="LLEG_JOINT4" type="revolute">
    <parent link="LLEG_LINK3"/>
    <child  link="LLEG_LINK4"/>
    <origin xyz="0 0 0" rpy="0 -0 0 "/>
    <axis   xyz="1 0 0"/>
    <limit lower="-2.96706" upper="2.96706" effort="1.17655" velocity="7.47998" />
    <dynamics damping="0.2" friction="0" />
  </joint>
  <joint name="RLEG_JOINT0" type="revolute">
    <parent link="torso"/>
    <child  link="RLEG_LINK0"/>
    <origin xyz="0 -0.0235 -0.052" rpy="0 -0 0 "/>
    <axis   xyz="1 0 0"/>
    <limit lower="-2.35619" upper="2.32129" effort="1.17655" velocity="7.47998" />
    <dynamics damping="0.2" friction="0" />
  </joint>
  <joint name="RLEG_JOINT1" type="revolute">
    <parent link="RLEG_LINK0"/>
    <child  link="RLEG_LINK1"/>
    <origin xyz="0 0 0" rpy="0 -0 0 "/>
    <axis   xyz="0 1 0"/>
    <limit lower="-2.35619" upper="1.5708" effort="1.17655" velocity="7.47998" />
    <dynamics damping="0.2" friction="0" />
  </joint>
  <joint name="RLEG_JOINT2" type="revolute">
    <parent link="RLEG_LINK1"/>
    <child  link="RLEG_LINK2"/>
    <origin xyz="0 0 -0.058" rpy="0 -0 0 "/>
    <axis   xyz="0 1 0"/>
    <limit lower="-1.74533" upper="2.79253" effort="1.17655" velocity="7.47998" />
    <dynamics damping="0.2" friction="0" />
  </joint>
  <joint name="RLEG_JOINT3" type="revolute">
    <parent link="RLEG_LINK2"/>
    <child  link="RLEG_LINK3"/>
    <origin xyz="0 0 -0.057976" rpy="0 -0 0 "/>
    <axis   xyz="0 1 0"/>
    <limit lower="-1.8326" upper="1.8326" effort="1.17655" velocity="7.47998" />
    <dynamics damping="0.2" friction="0" />
  </joint>
  <joint name="RLEG_JOINT4" type="revolute">
    <parent link="RLEG_LINK3"/>
    <child  link="RLEG_LINK4"/>
    <origin xyz="0 0 0" rpy="0 -0 0 "/>
    <axis   xyz="1 0 0"/>
    <limit lower="-2.96706" upper="2.96706" effort="1.17655" velocity="7.47998" />
    <dynamics damping="0.2" friction="0" />
  </joint>

  <!-- Virtual Hand joint -->
  <joint name="l_hand_virtual_joint" type="fixed">
    <parent link="LARM_LINK2"/>
    <child link="l_hand_virtual"/>
    <origin rpy="0.0 0.0 0.0" xyz="0.0 0.0 0.0"/>
  </joint>
  <!-- Hand Virtual link for data acquire -->
  <link name="l_hand_virtual">
  </link>

  <!-- Virtual Hand joint -->
  <joint name="r_hand_virtual_joint" type="fixed">
    <parent link="RARM_LINK2"/>
    <child link="r_hand_virtual"/>
    <origin rpy="0.0 0.0 0.0" xyz="0.0 0.0 0.0"/>
  </joint>
  <!-- Hand Virtual link for data acquire -->
  <link name="r_hand_virtual">
  </link>

  <!-- Virtual Foot joint -->
  <joint name="l_foot_virtual_joint" type="fixed">
    <parent link="LLEG_LINK4"/>
    <child link="l_foot_virtual"/>
    <origin rpy="0.0 0.0 0.0" xyz="0.0 0.0 0.0"/>
  </joint>
  <!-- Foot Virtual link for data acquire -->
  <link name="l_foot_virtual">
  </link>

  <!-- Virtual Foot joint -->
  <joint name="r_foot_virtual_joint" type="fixed">
    <parent link="RLEG_LINK4"/>
    <child link="r_foot_virtual"/>
    <origin rpy="0.0 0.0 0.0" xyz="0.0 0.0 0.0"/>
  </joint>
  <!-- Foot Virtual link for data acquire -->
  <link name="r_foot_virtual">
  </link>
</robot>
